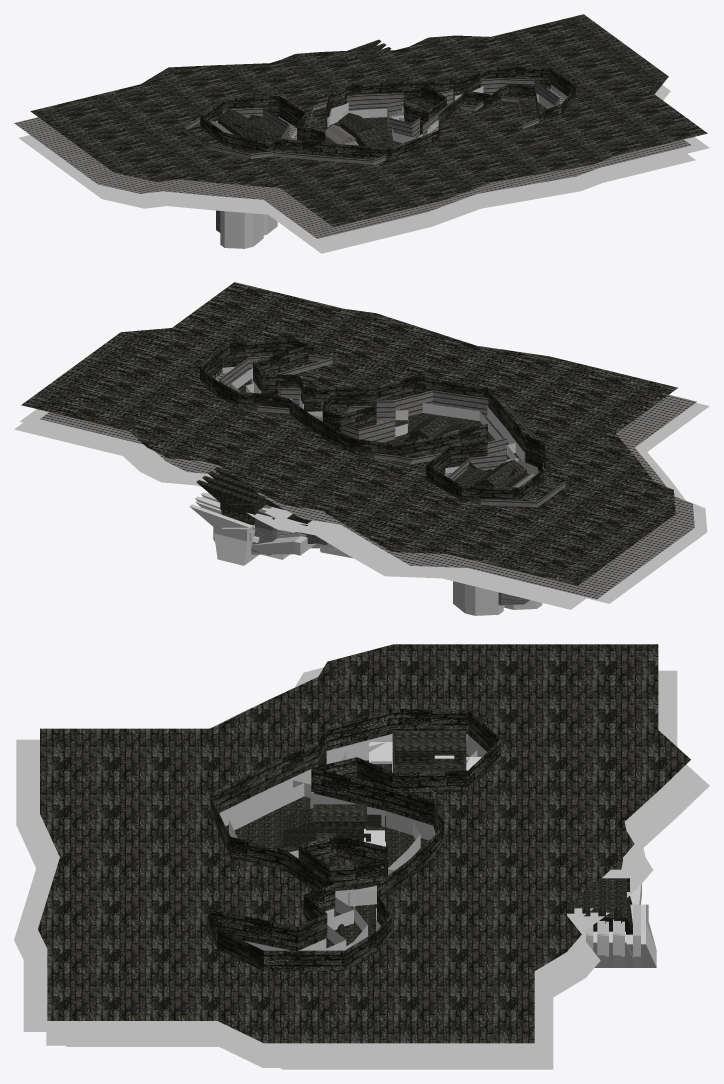
The picture shows the model from 3 angles, top to bottom: view 1: azimuth 30°, elevation 25°; view 2: azimuth 150°, elevation 25°; view 3: azimuth 270°, elevation 25°; orthographic projection. The views are drawn at different scales.
Visible parts, largest first — view 1: pb_Cube_4901678__2_, pb_Cube_4344014__2_, pb_Cube_110606__2_, pb_Cube_4034592__1_; view 2: pb_Cube_4901678__2_, pb_Cube_4344014__2_, pb_Cube_3515982__2_, pb_Cube_4034592__1_, pb_Cube_110606__2_; view 3: pb_Cube_4901678__2_, pb_Cube_4034592__1_, pb_Cube_3515982__2_, pb_Cube_110606__2_.
Part boxes in pixels (box(x1,y1,x2,y2)): pb_Cube_4901678__2_: box(30, 14, 707, 226); pb_Cube_4344014__2_: box(14, 78, 691, 238); pb_Cube_110606__2_: box(19, 94, 695, 253); pb_Cube_4034592__1_: box(145, 85, 709, 241); pb_Cube_4901678__2_: box(21, 282, 677, 585); pb_Cube_4344014__2_: box(40, 354, 696, 605); pb_Cube_3515982__2_: box(14, 366, 587, 615); pb_Cube_4034592__1_: box(20, 377, 583, 606); pb_Cube_110606__2_: box(231, 368, 709, 609); pb_Cube_4901678__2_: box(38, 644, 690, 1043); pb_Cube_4034592__1_: box(37, 734, 689, 1067); pb_Cube_3515982__2_: box(66, 670, 709, 1069); pb_Cube_110606__2_: box(14, 667, 477, 1031).
Bounding box in the file's own units: 24761 × 5175 × 17536.
